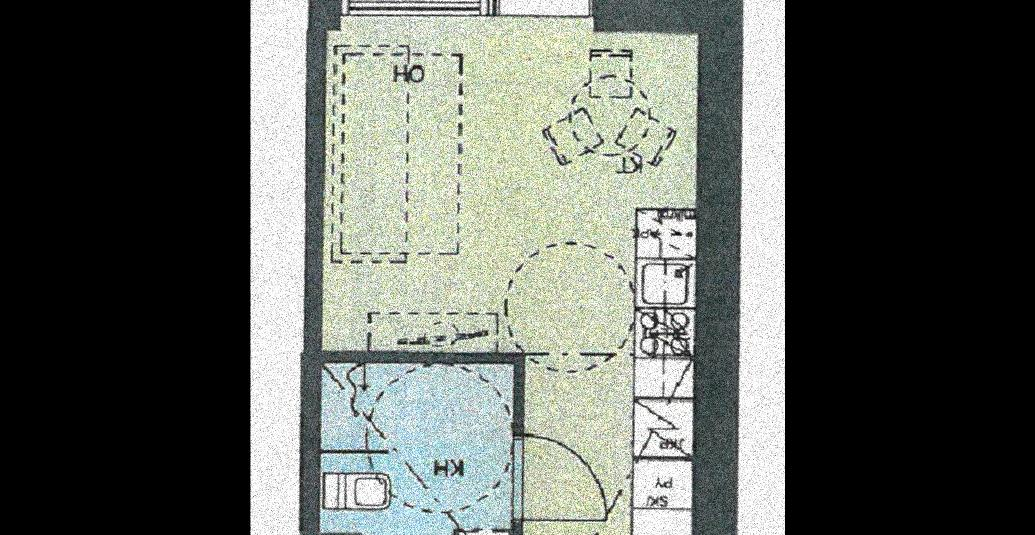door: (513, 421, 621, 529)
window: (342, 0, 488, 17)
zone: (320, 38, 708, 347), (478, 355, 695, 535), (318, 366, 513, 535)
